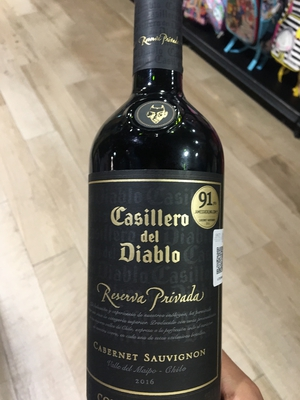casillero del diablo reserva privada cabernet sauvignon: (83, 27, 235, 400)
